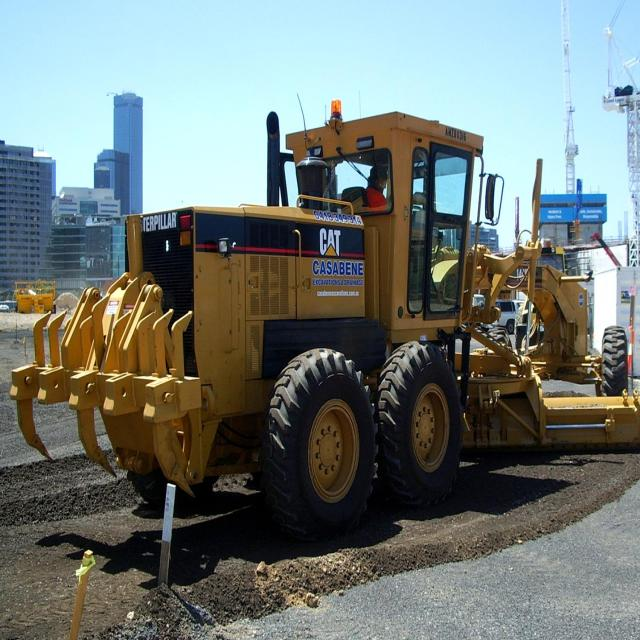buldozerpayloadergrader: (31, 89, 640, 533)
